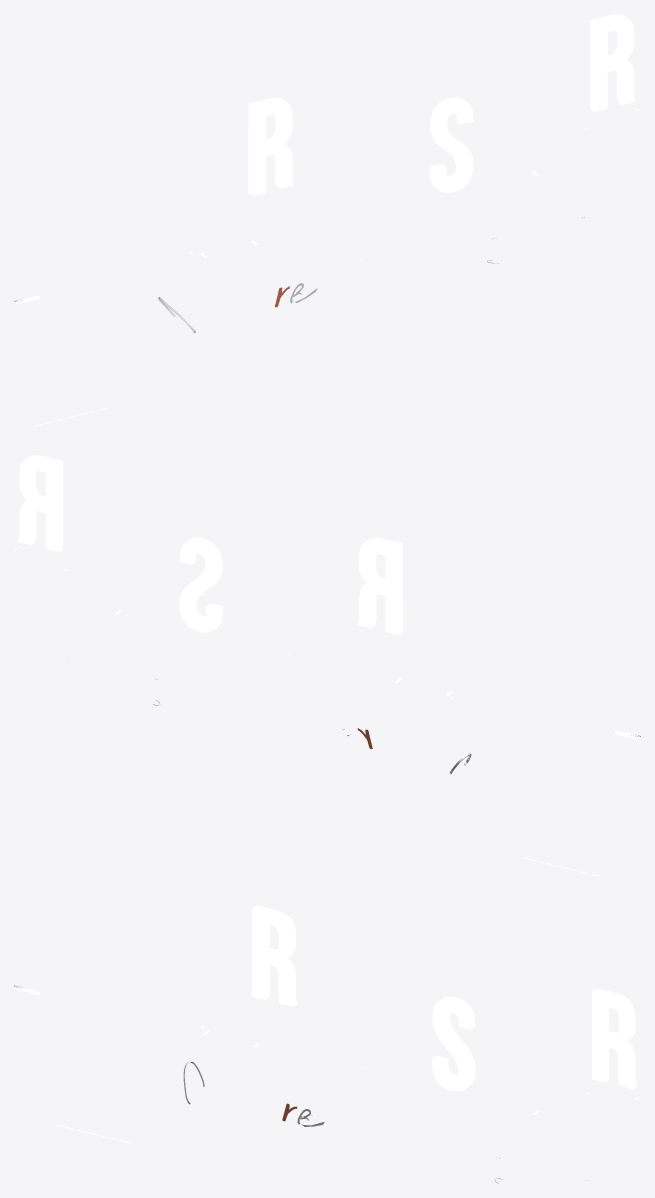
Rendered from Four_stroke_public_6.glb.
The picture shows the model from 3 angles, top to bottom: view 1: azimuth 30°, elevation 25°; view 2: azimuth 150°, elevation 25°; view 3: azimuth 330°, elevation 25°; orthographic projection.
Parts seen in each view (by area): view 1: R-1, R-2, S; view 2: R-1, R-2, S; view 3: R-1, R-2, S.
Part boxes in pixels (bbox=[...]): R-1: bbox=[248, 98, 294, 195]; R-2: bbox=[590, 14, 635, 111]; S: bbox=[429, 97, 473, 192]; R-1: bbox=[357, 537, 403, 634]; R-2: bbox=[17, 455, 62, 551]; S: bbox=[179, 537, 222, 632]; R-1: bbox=[251, 905, 297, 1006]; R-2: bbox=[592, 988, 637, 1089]; S: bbox=[432, 996, 475, 1091].
Bounding box in the file's own units: 4.69 × 1.98 × 0.278.
10 materials, 1 textured.
